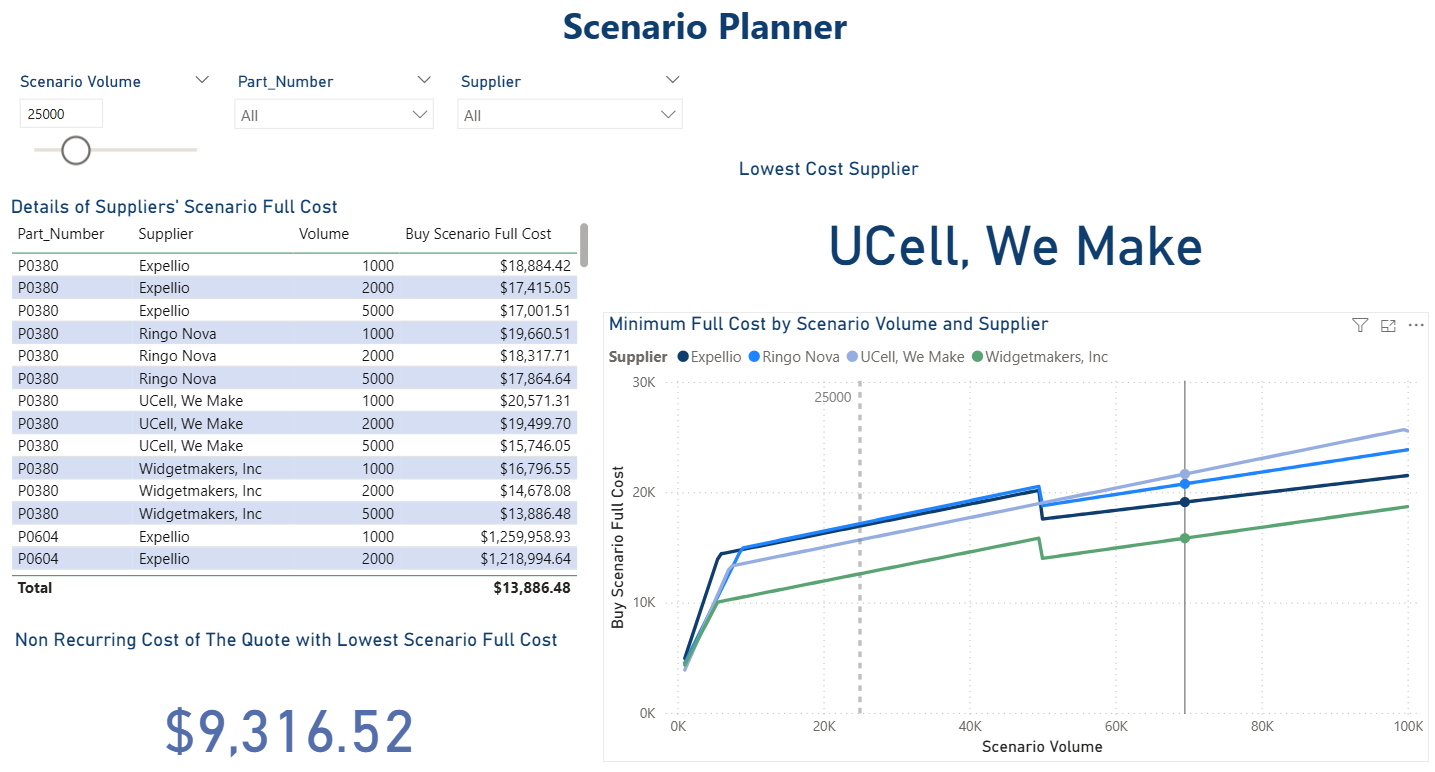

The dashboard page shown, as its layout file describes it:
{"tool":"powerbi","page":{"name":"Scenario Analysis","canvas":[1280,720],"ordinal":1},"visuals":[{"type":"slicer","fields":{"Values":["Scenario Volume.Scenario Volume"]},"box":[9.7,65.2,193.6,158.5],"z":0},{"type":"tableEx","title":"Details of Suppliers'' Scenario Full Cost","fields":{"Values":["Part_Number (Product_Dimension).Part_Number","Quotes.Supplier","Quotes.Volume","Scenario Volume.Scenario Full Cost"]},"box":[9.7,178,523.3,361.8],"z":1000},{"type":"slicer","fields":{"Values":["Quotes.Part_Number"]},"box":[203.3,65.2,197.4,79.8],"z":2000},{"type":"textbox","box":[499,0,282.1,54.5],"z":3000},{"type":"card","title":"Non Recurring Cost of The Quote with Lowest Scenario Full Cost","fields":{"Values":["Sum(Quotes.Non_recurring_expenses)"]},"box":[13.6,562.2,497,149.8],"z":4000},{"type":"slicer","fields":{"Values":["Quotes.Supplier"]},"box":[400.7,65.2,219.8,79.8],"z":5000},{"type":"lineChart","title":"Minimum Full Cost by Scenario Volume and Supplier","fields":{"Y":["Scenario Volume (All).Full Cost (All)"],"Category":["Scenario Volume (All).Scenario Volume"],"Series":["Quotes.Supplier"]},"box":[539.8,282.1,732.4,398.8],"z":6000},{"type":"card","title":"Lowest Cost Supplier","fields":{"Values":["Min(Quotes.Supplier)"]},"box":[655.6,144.9,501.9,125.5],"z":7000}]}

Visuals, with their boxes on the page's 1280x720 design canvas (x1, y1, x2, y2). These are canvas units, not pixel positions in the 1435x772 screenshot, which may show the page scaled, cropped or inside an application window:
slicer - Scenario Volume.Scenario Volume: region(10, 65, 203, 224)
"Details of Suppliers'' Scenario Full Cost" tableEx: region(10, 178, 533, 540)
slicer - Quotes.Part_Number: region(203, 65, 401, 145)
textbox: region(499, 0, 781, 54)
"Non Recurring Cost of The Quote with Lowest Scenario Full Cost" card: region(14, 562, 511, 712)
slicer - Quotes.Supplier: region(401, 65, 620, 145)
"Minimum Full Cost by Scenario Volume and Supplier" lineChart: region(540, 282, 1272, 681)
"Lowest Cost Supplier" card: region(656, 145, 1158, 270)
